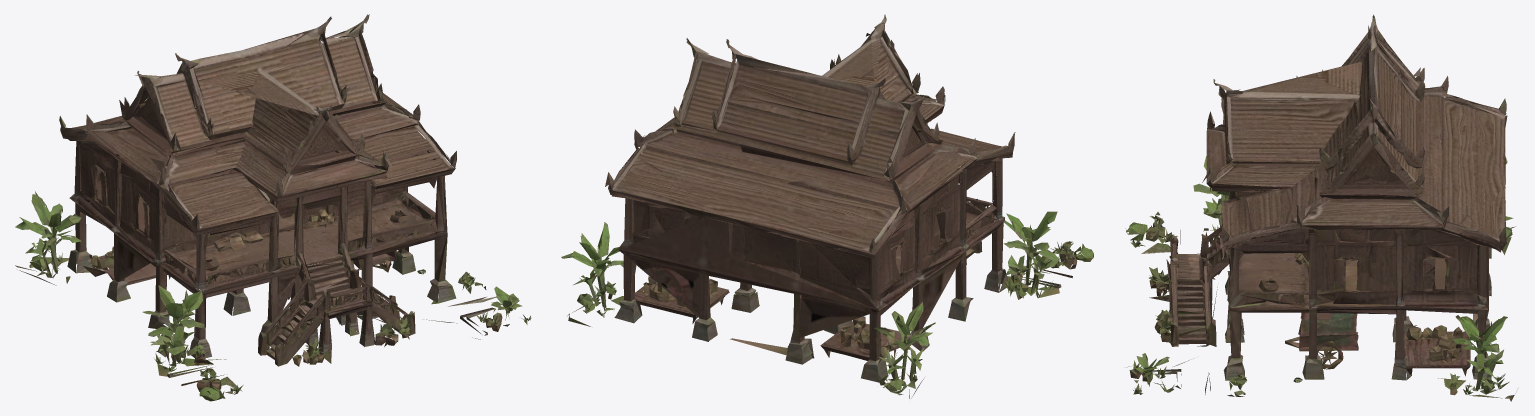
Rendered from noble-house.glb.
3 views of the same model, side by side, from view 1: azimuth 30°, elevation 25°; view 2: azimuth 150°, elevation 25°; view 3: azimuth 270°, elevation 25° (orthographic). The views are drawn at different scales.
Visible parts, largest first — view 1: output_unwrapped; view 2: output_unwrapped; view 3: output_unwrapped.
Boxes of the visible parts, x1=… form: output_unwrapped: x1=15, y1=14, x2=531, y2=401; output_unwrapped: x1=561, y1=14, x2=1093, y2=398; output_unwrapped: x1=1125, y1=14, x2=1515, y2=401.
Size of the model in its own units: 12.7 by 8.41 by 11.91.
1 material, 1 textured.
